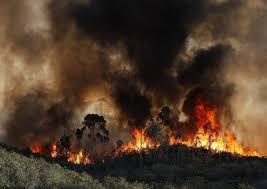fire: (168, 102, 262, 156), (30, 141, 93, 163), (29, 139, 61, 156)
